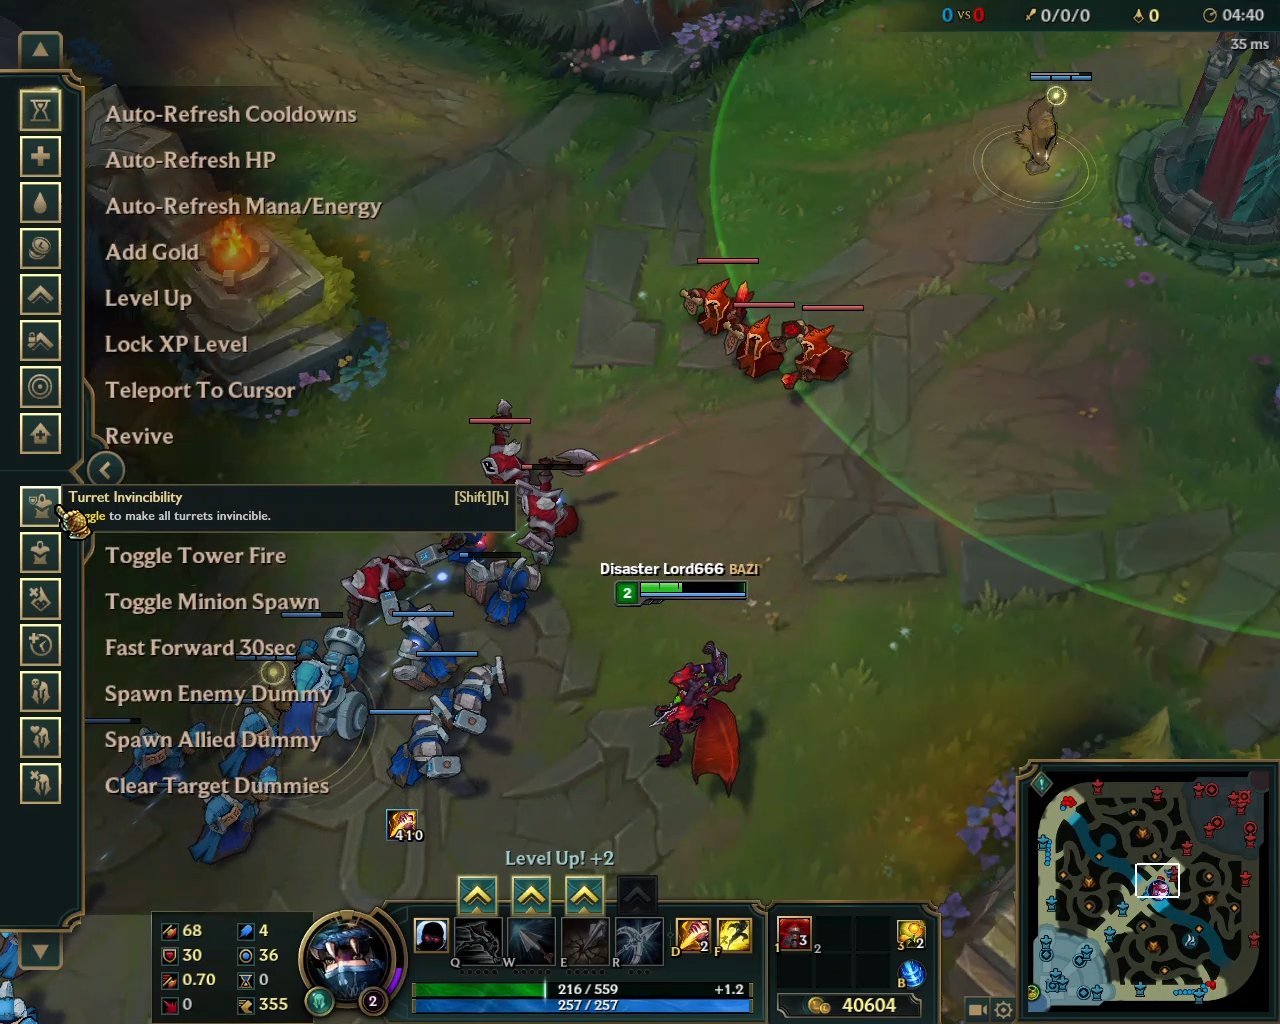EnemyMinion: (714, 300, 798, 382), (674, 258, 759, 339), (783, 306, 863, 390)
Vayne: (638, 636, 757, 808)
